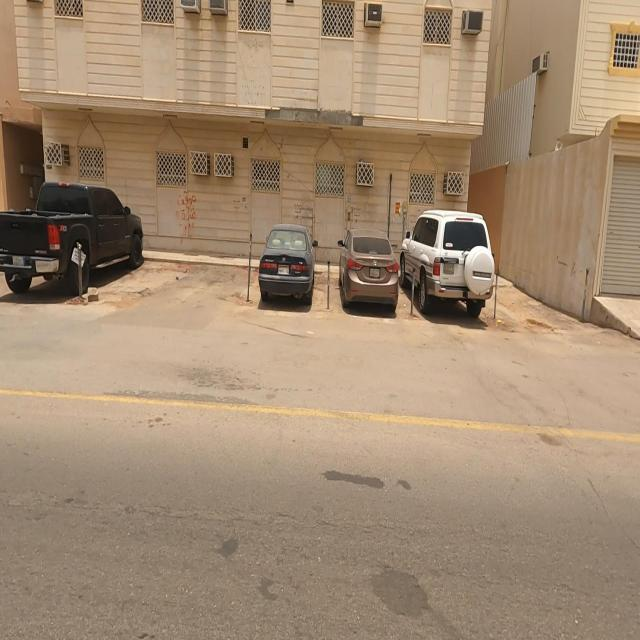Graffiti: (177, 192, 198, 243)
